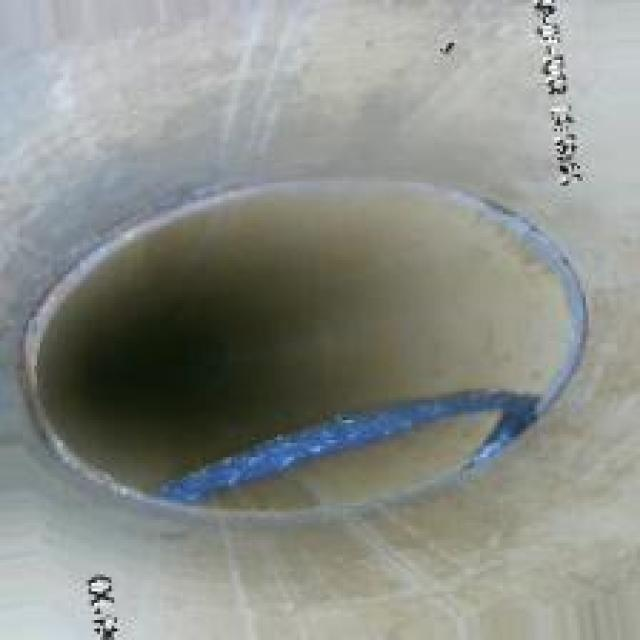joint: (11, 169, 612, 520)
